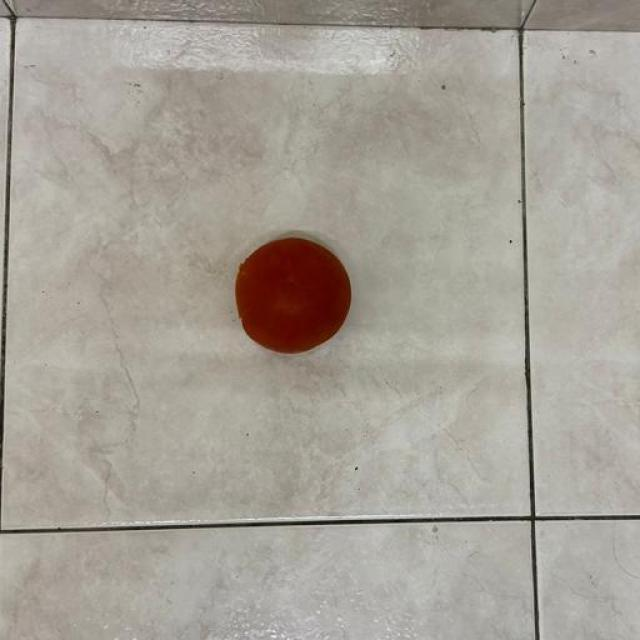organic: (237, 238, 351, 353)
